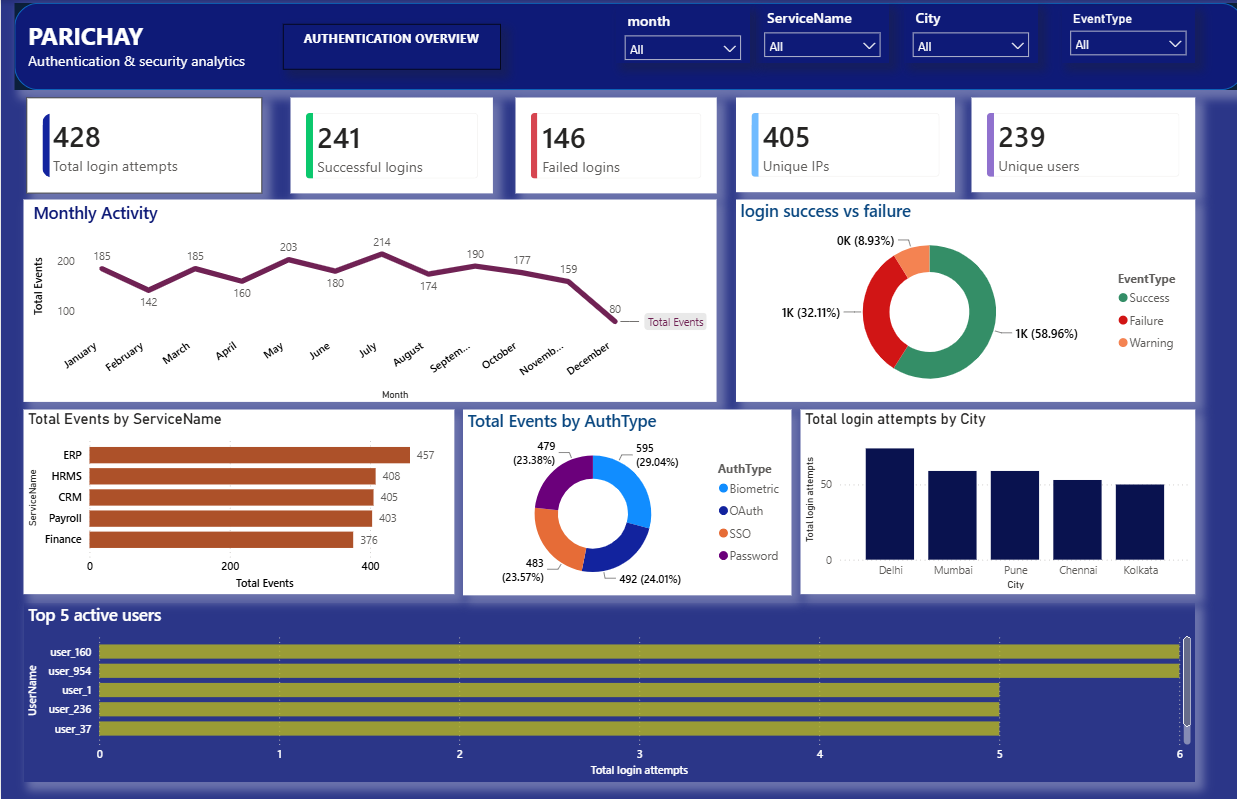

What the dashboard file says about the page in this screenshot:
{"tool":"powerbi","page":{"name":"Authetication overview","canvas":[1400,900],"ordinal":0},"visuals":[{"type":"shape","box":[15.2,3.4,1385.5,98],"z":1000},{"type":"cardVisual","fields":{"Data":["AuthLogs_Final.Total login attempts"]},"box":[28.7,109,265.3,108.1],"z":2000},{"type":"cardVisual","fields":{"Data":["AuthLogs_Final.successful logins"]},"box":[326.1,109,228.1,108.1],"z":3000},{"type":"cardVisual","fields":{"Data":["AuthLogs_Final.Failed logins"]},"box":[579.5,109,226.4,108.1],"z":4000},{"type":"cardVisual","fields":{"Data":["AuthLogs_Final.Unique users"]},"box":[1093.2,109,251.8,106.4],"z":5000},{"type":"cardVisual","fields":{"Data":["AuthLogs_Final.Unique IPs"]},"box":[827.9,109.8,246.7,106.4],"z":6000},{"type":"lineChart","title":"Monthly Activity","fields":{"Category":["AuthLogs_Final.TimeStamp.Variation.Date Hierarchy.Month"],"Y":["AuthLogs_Final.Total Events"]},"box":[25.3,225,780.6,228.1],"z":7000},{"type":"donutChart","title":"login success vs failure","fields":{"Category":["AuthLogs_Final.EventType"],"Y":["AuthLogs_Final.Total Events"]},"box":[827.9,225,517,228.1],"z":8000},{"type":"clusteredBarChart","fields":{"Category":["AuthLogs_Final.ServiceName"],"Y":["AuthLogs_Final.Total Events"]},"box":[25.3,461,485,207.8],"z":9000},{"type":"donutChart","fields":{"Category":["AuthLogs_Final.AuthType"],"Y":["AuthLogs_Final.Total Events"]},"box":[520.4,461,370,209.5],"z":10000},{"type":"columnChart","fields":{"Category":["AuthLogs_Final.City"],"Y":["AuthLogs_Final.Total login attempts"]},"box":[900.6,461,444.4,207.8],"z":11000},{"type":"clusteredBarChart","title":"Top 5 active users","fields":{"Category":["AuthLogs_Final.UserName"],"Y":["AuthLogs_Final.Total login attempts"]},"box":[25.3,679.2,1319.6,201.1],"z":12000},{"type":"slicer","fields":{"Values":["AuthLogs_Final.month"]},"box":[692.8,6.8,150.4,64.2],"z":13000},{"type":"slicer","fields":{"Values":["AuthLogs_Final.ServiceName"]},"box":[849.9,3.4,150.4,67.6],"z":14000},{"type":"slicer","fields":{"Values":["AuthLogs_Final.City"]},"box":[1017.2,3.4,150.4,67.6],"z":15000},{"type":"slicer","fields":{"Values":["AuthLogs_Final.EventType"]},"box":[1194.6,6.8,150.4,64.2],"z":16000},{"type":"textbox","box":[25.3,16.9,269.3,84.1],"z":18000},{"type":"textbox","box":[317.7,27,245.3,51.5],"z":19000}]}

Visuals, with their boxes in screenshot pixels (x1, y1, x2, y2), scaled from the page's 1400x900 canvas onto the 1237x799 screenshot:
shape: pyautogui.locateOnScreen(13, 3, 1236, 90)
cardVisual - AuthLogs_Final.Total login attempts: pyautogui.locateOnScreen(25, 97, 260, 193)
cardVisual - AuthLogs_Final.successful logins: pyautogui.locateOnScreen(288, 97, 490, 193)
cardVisual - AuthLogs_Final.Failed logins: pyautogui.locateOnScreen(512, 97, 712, 193)
cardVisual - AuthLogs_Final.Unique users: pyautogui.locateOnScreen(966, 97, 1188, 191)
cardVisual - AuthLogs_Final.Unique IPs: pyautogui.locateOnScreen(732, 97, 949, 192)
"Monthly Activity" lineChart: pyautogui.locateOnScreen(22, 200, 712, 402)
"login success vs failure" donutChart: pyautogui.locateOnScreen(732, 200, 1188, 402)
clusteredBarChart - AuthLogs_Final.ServiceName x AuthLogs_Final.Total Events: pyautogui.locateOnScreen(22, 409, 451, 594)
donutChart - AuthLogs_Final.AuthType x AuthLogs_Final.Total Events: pyautogui.locateOnScreen(460, 409, 787, 595)
columnChart - AuthLogs_Final.City x AuthLogs_Final.Total login attempts: pyautogui.locateOnScreen(796, 409, 1188, 594)
"Top 5 active users" clusteredBarChart: pyautogui.locateOnScreen(22, 603, 1188, 782)
slicer - AuthLogs_Final.month: pyautogui.locateOnScreen(612, 6, 745, 63)
slicer - AuthLogs_Final.ServiceName: pyautogui.locateOnScreen(751, 3, 884, 63)
slicer - AuthLogs_Final.City: pyautogui.locateOnScreen(899, 3, 1032, 63)
slicer - AuthLogs_Final.EventType: pyautogui.locateOnScreen(1056, 6, 1188, 63)
textbox: pyautogui.locateOnScreen(22, 15, 260, 90)
textbox: pyautogui.locateOnScreen(281, 24, 497, 70)
